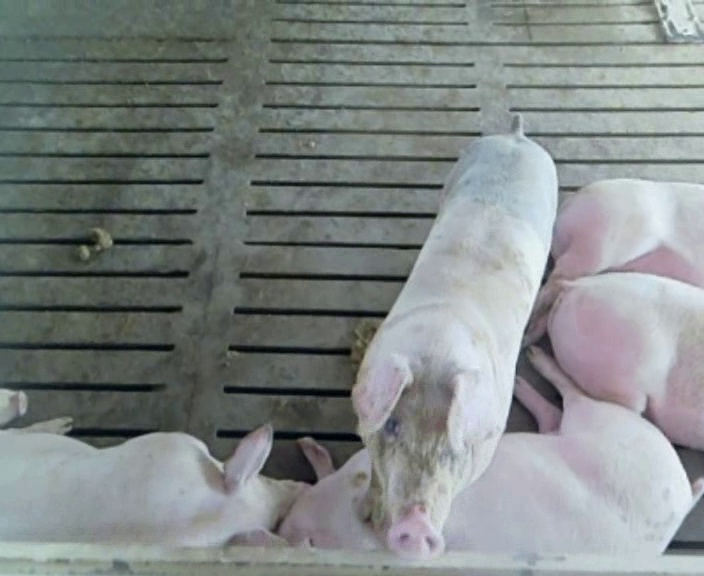pig: (353, 119, 556, 557), (524, 179, 703, 344), (548, 273, 703, 449)
